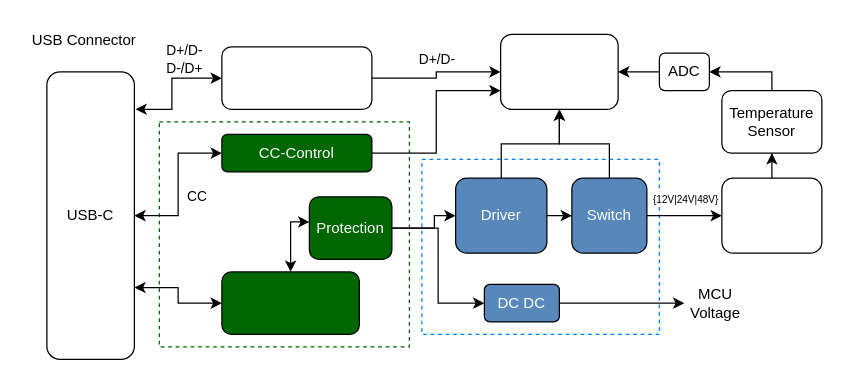
Some shapes in this 844 by 381 pixel diagram are drawn without their labels. Here are the shapes that lost their labels. From the top down, the centre of each, then its label:
At (x=296, y=77): "USB 2.0 MUX/Redriver".
At (x=558, y=71): "MCU".
At (x=771, y=215): "Heater".
At (x=290, y=302): "Integrated PD Controller".
